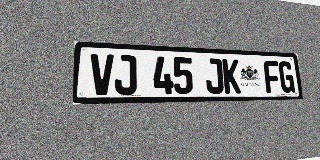4: (153, 56, 174, 94)
5: (173, 57, 193, 94)
F: (263, 60, 281, 93)
G: (278, 61, 295, 93)
J: (114, 55, 137, 95), (204, 58, 224, 94)
K: (222, 59, 241, 94)
V: (90, 54, 114, 95)
